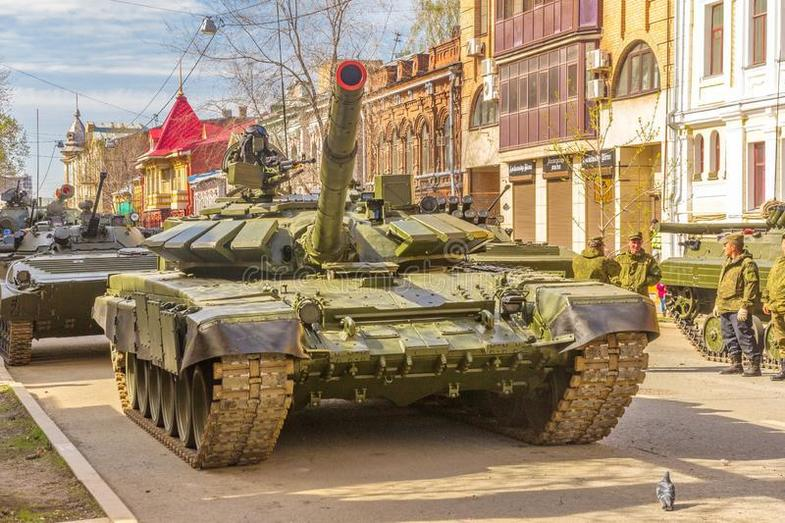t72: (122, 58, 647, 466)
